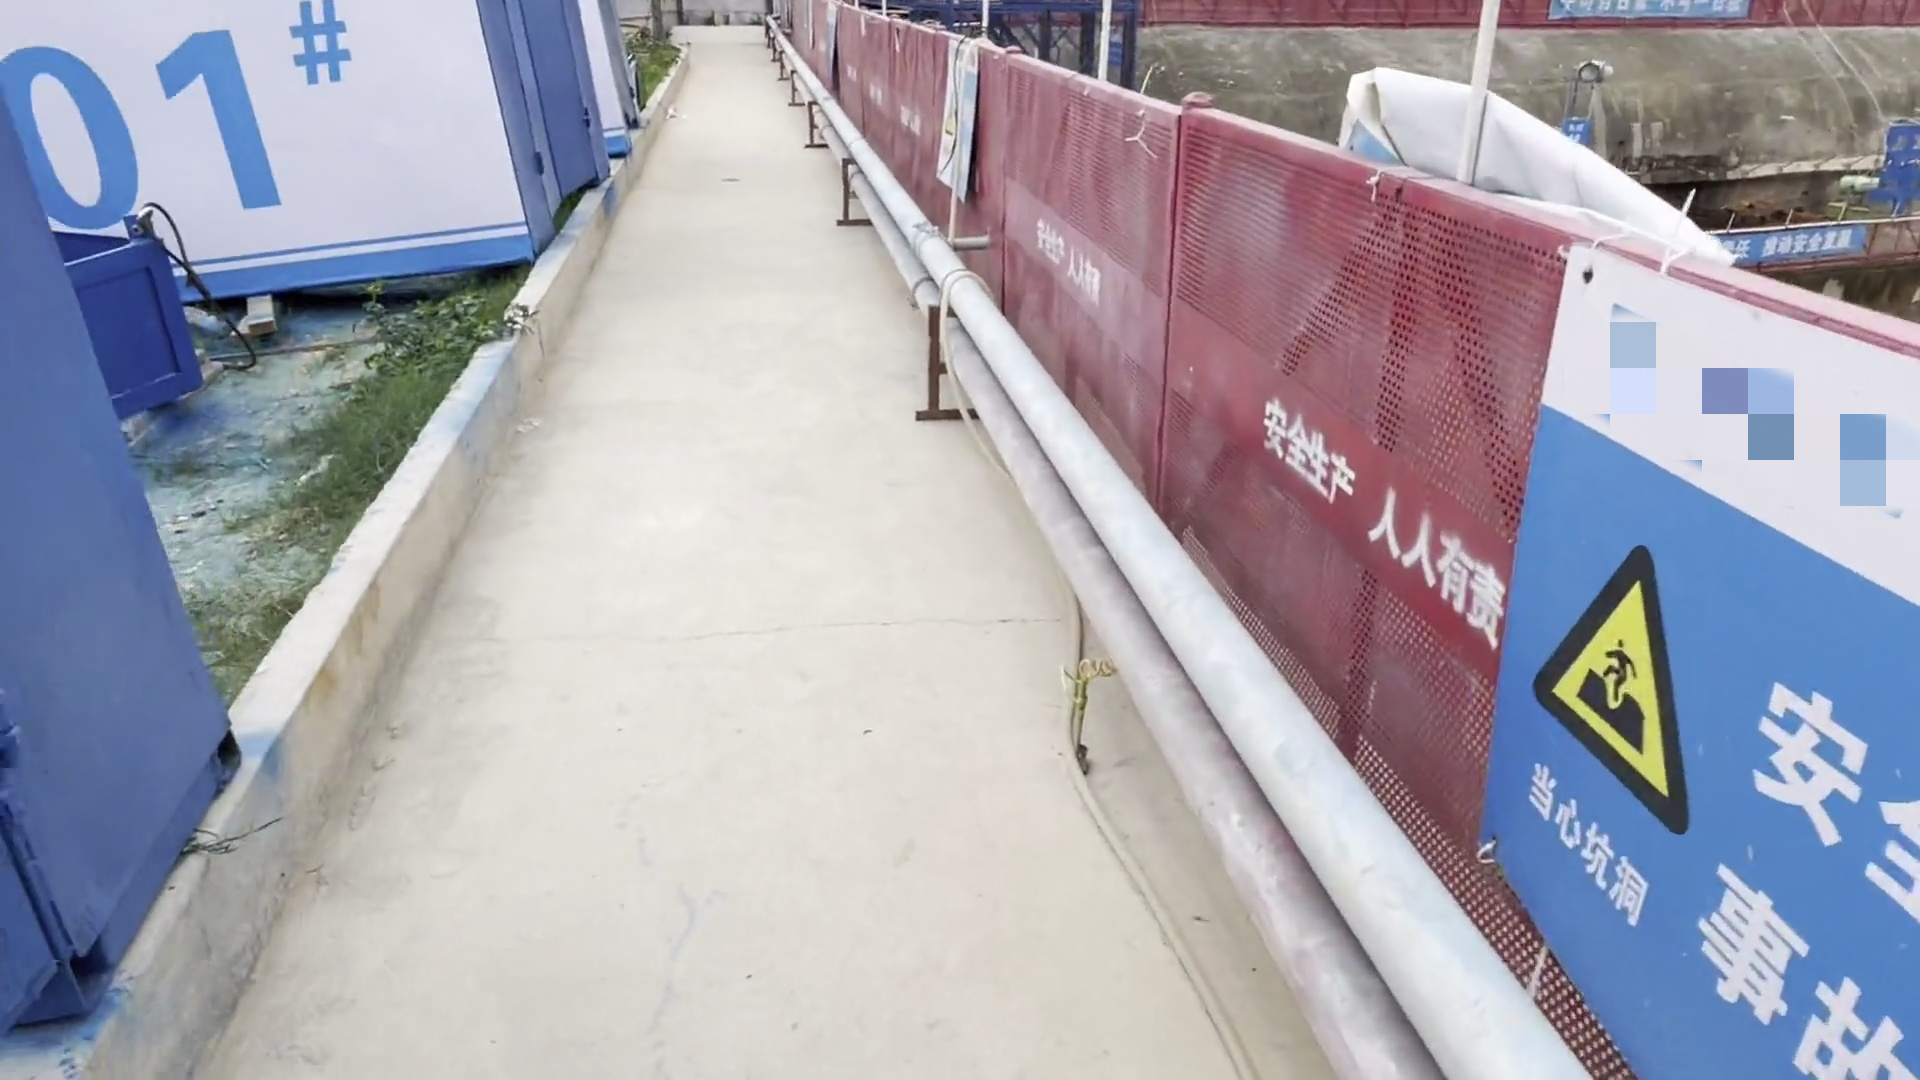fence: (992, 47, 1482, 752)
slogan: (1464, 229, 1917, 1077), (930, 32, 988, 214), (1531, 1, 1766, 41)
